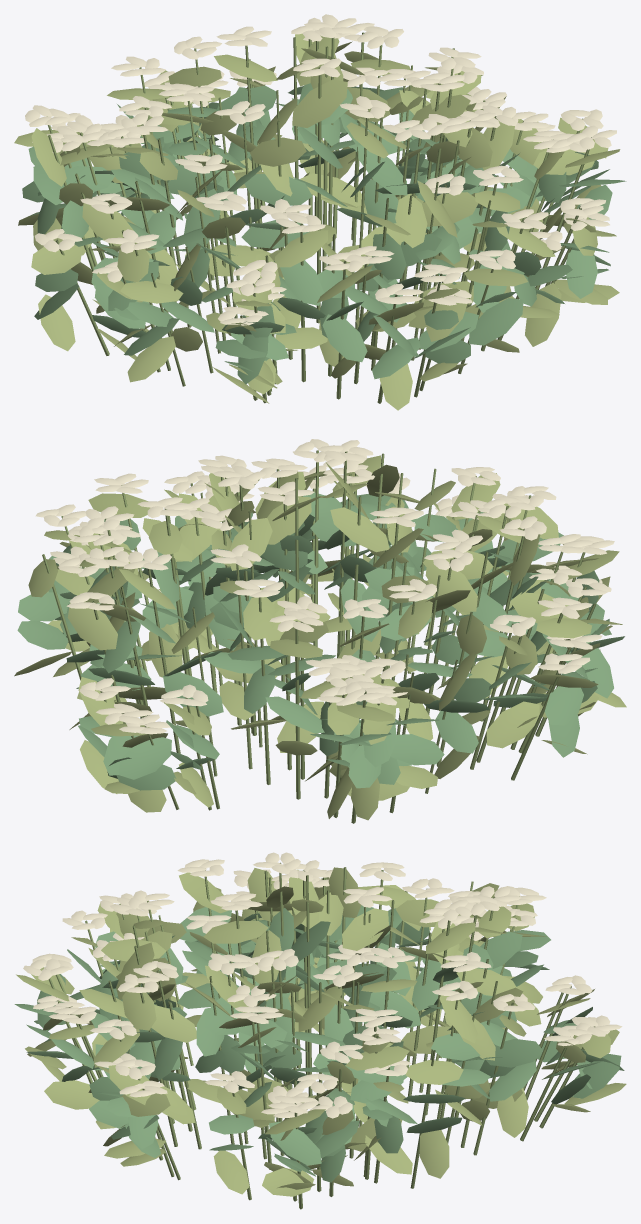
The model's file is study_flower_mound_0.glb.
3 renders of one model, top to bottom at view 1: azimuth 30°, elevation 25°; view 2: azimuth 150°, elevation 25°; view 3: azimuth 270°, elevation 25°, orthographic. The views are drawn at different scales.
Visible parts, largest first — view 1: study_flower_mound_0_StudyLeafGold, study_flower_mound_0_StudyLeafJade, study_flower_mound_0_StudyCream, study_flower_mound_0_LakeReed; view 2: study_flower_mound_0_StudyLeafGold, study_flower_mound_0_StudyLeafJade, study_flower_mound_0_StudyCream, study_flower_mound_0_LakeReed; view 3: study_flower_mound_0_StudyLeafGold, study_flower_mound_0_StudyLeafJade, study_flower_mound_0_StudyCream, study_flower_mound_0_LakeReed.
Part boxes in pixels (box(x1,y1,x2,y2)): study_flower_mound_0_StudyLeafGold: box(14, 33, 620, 410); study_flower_mound_0_StudyLeafJade: box(22, 83, 626, 384); study_flower_mound_0_StudyCream: box(25, 14, 616, 325); study_flower_mound_0_LakeReed: box(47, 32, 593, 403); study_flower_mound_0_StudyLeafGold: box(14, 455, 626, 820); study_flower_mound_0_StudyLeafJade: box(17, 492, 624, 790); study_flower_mound_0_StudyCream: box(35, 439, 614, 734); study_flower_mound_0_LakeReed: box(42, 450, 595, 823); study_flower_mound_0_StudyLeafGold: box(16, 867, 626, 1196); study_flower_mound_0_StudyLeafJade: box(14, 905, 624, 1182); study_flower_mound_0_StudyCream: box(23, 852, 622, 1118); study_flower_mound_0_LakeReed: box(48, 862, 595, 1209).
Bounding box in the file's own units: 2.39 × 1.06 × 2.4.
